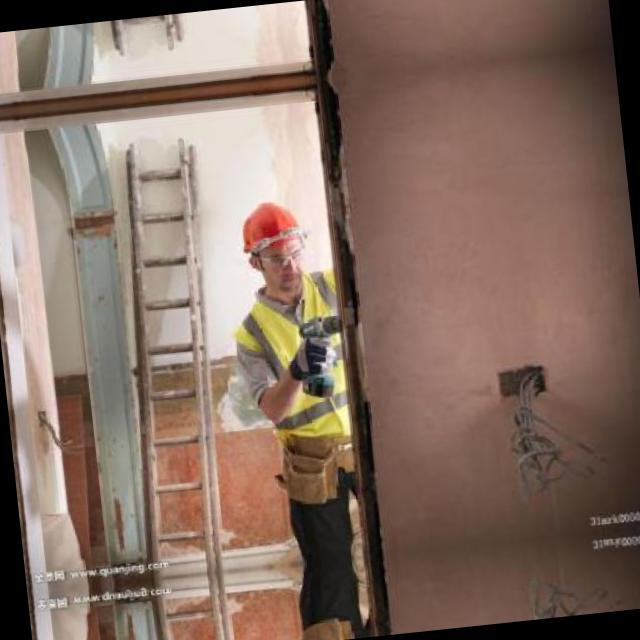helmet: (229, 192, 315, 304)
